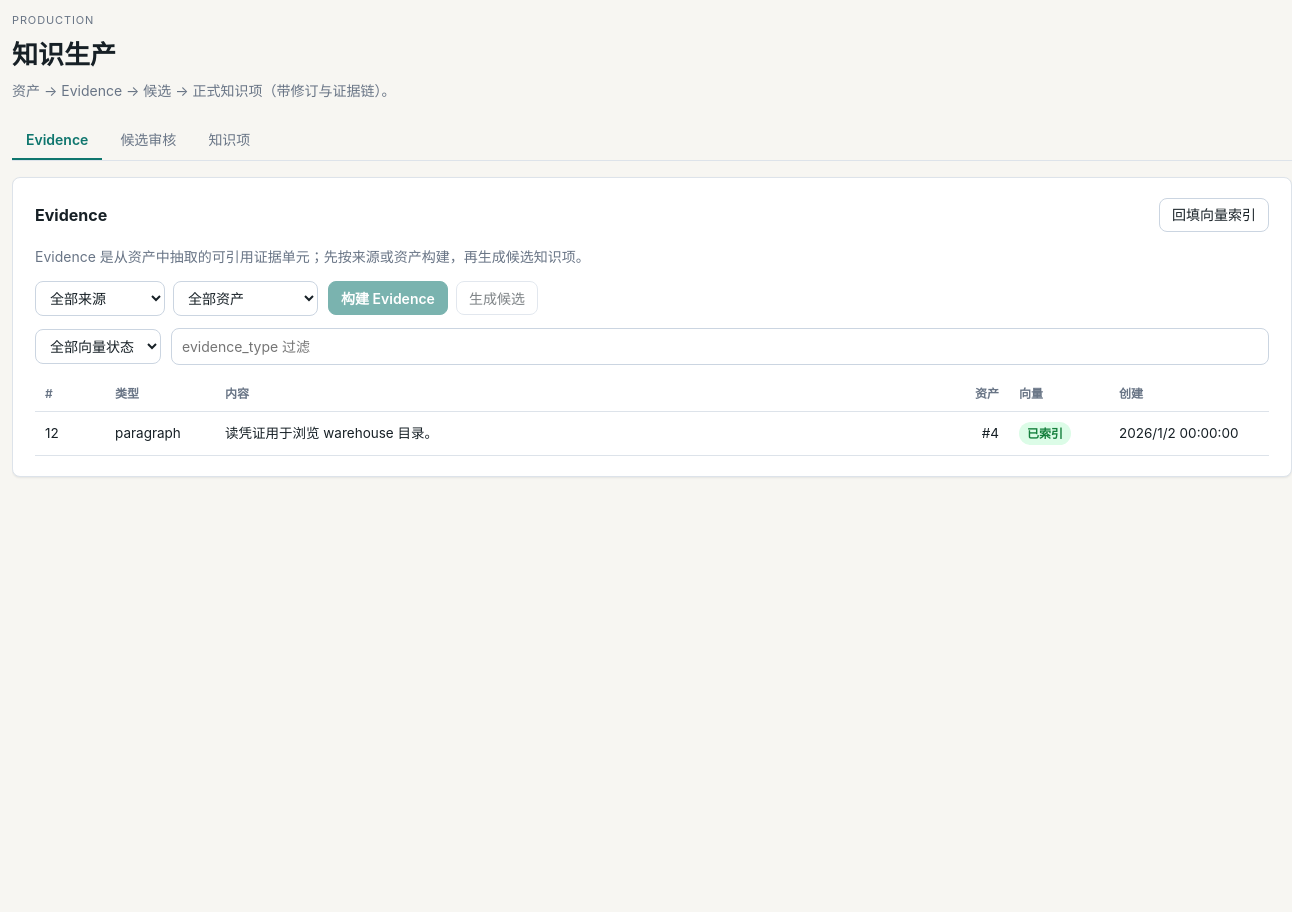
Scenario: production workbench › builds evidence for the selected source and reports the result
The image size is (1292, 912).
Expected: the text "读凭证用于浏览 warehouse 目录。" is shown, [225, 425, 438, 441]
Select "/apps/x/docs" in the dropdown named "来源" at point(100, 298), box [35, 280, 165, 316]
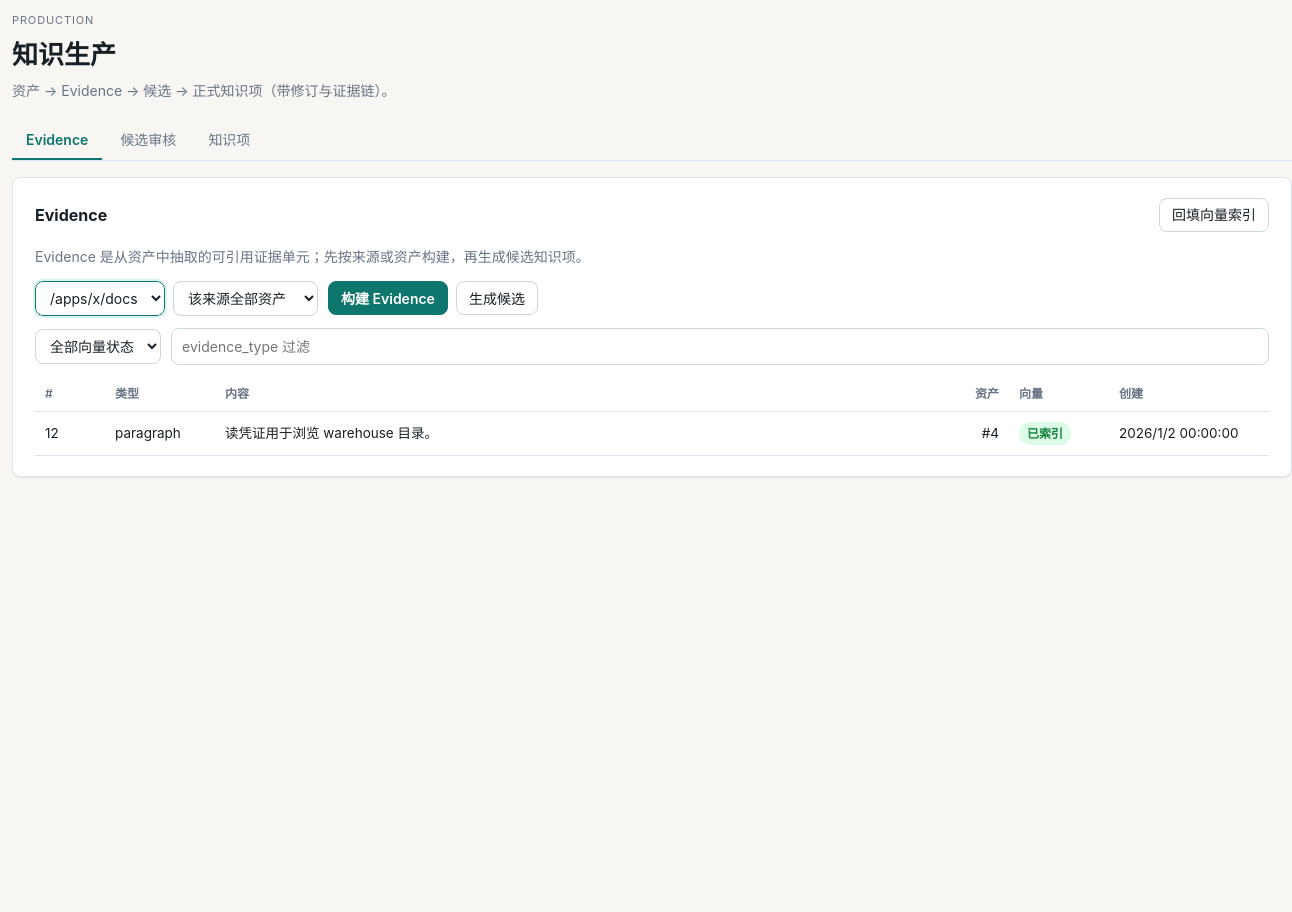
Click the button "构建 Evidence".
click(388, 298)  # box [328, 281, 448, 315]
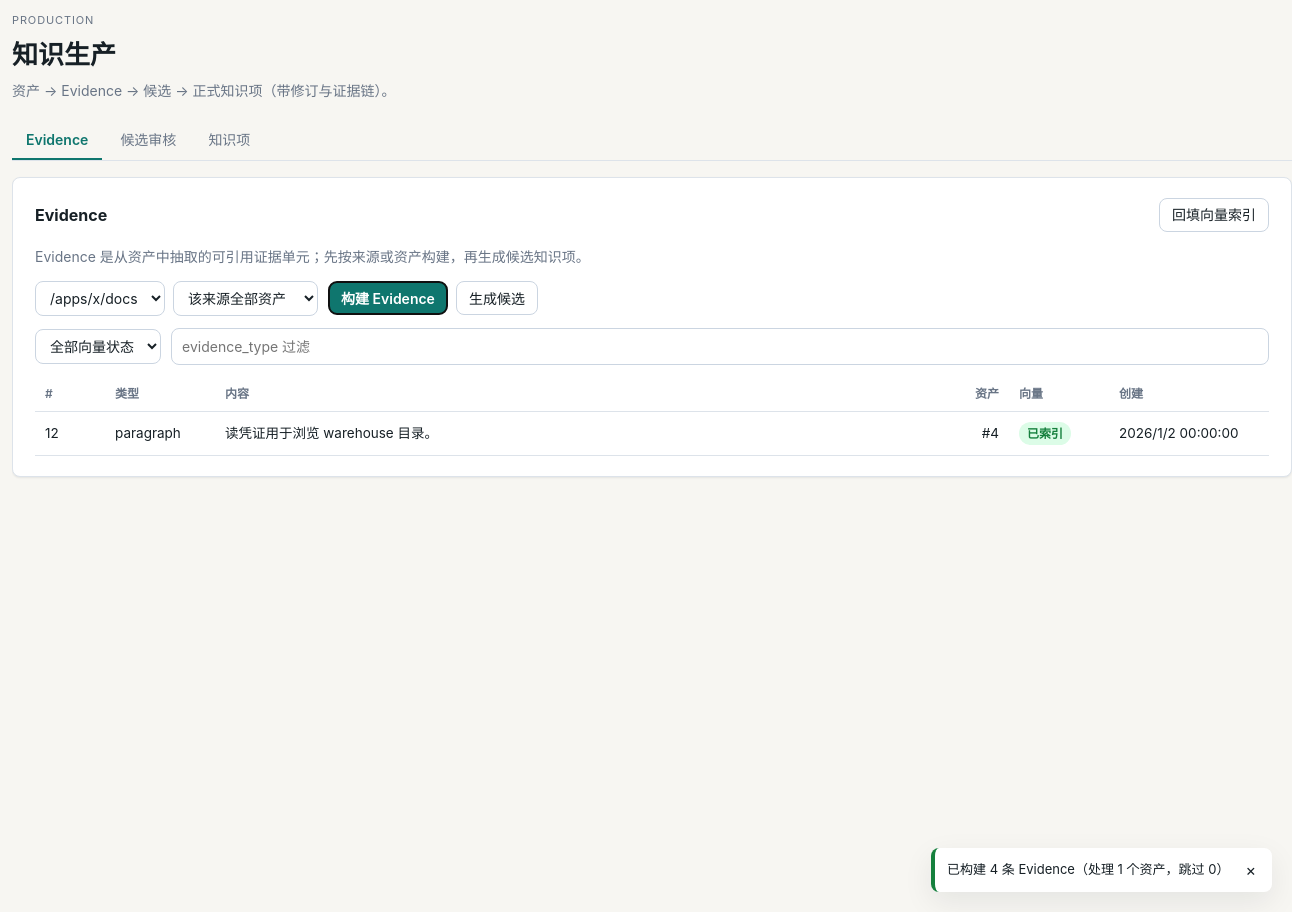
Result: the text "已构建 4 条 Evidence（处理 1 个资产，跳过 0）" is shown at [947, 860, 1229, 880]
